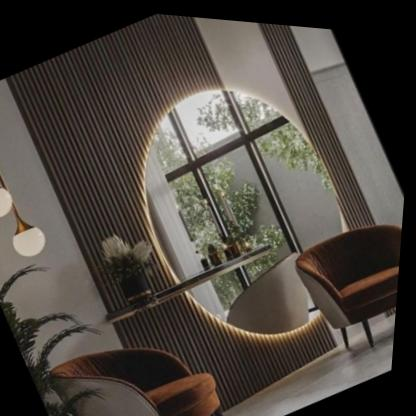Ceramic floor: (231, 311, 400, 416)
Wall Panel: (0, 0, 416, 416)
